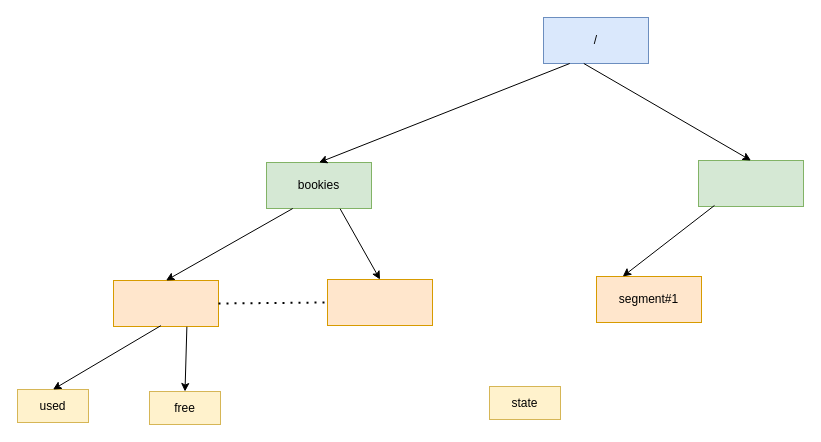
This 821x442 diagram has some shape labels left out. The centre of each missing label's shape, as x and y in pixels:
bookie#1: the point at 165,303
bookie#N: the point at 379,302
segments: the point at 751,183
